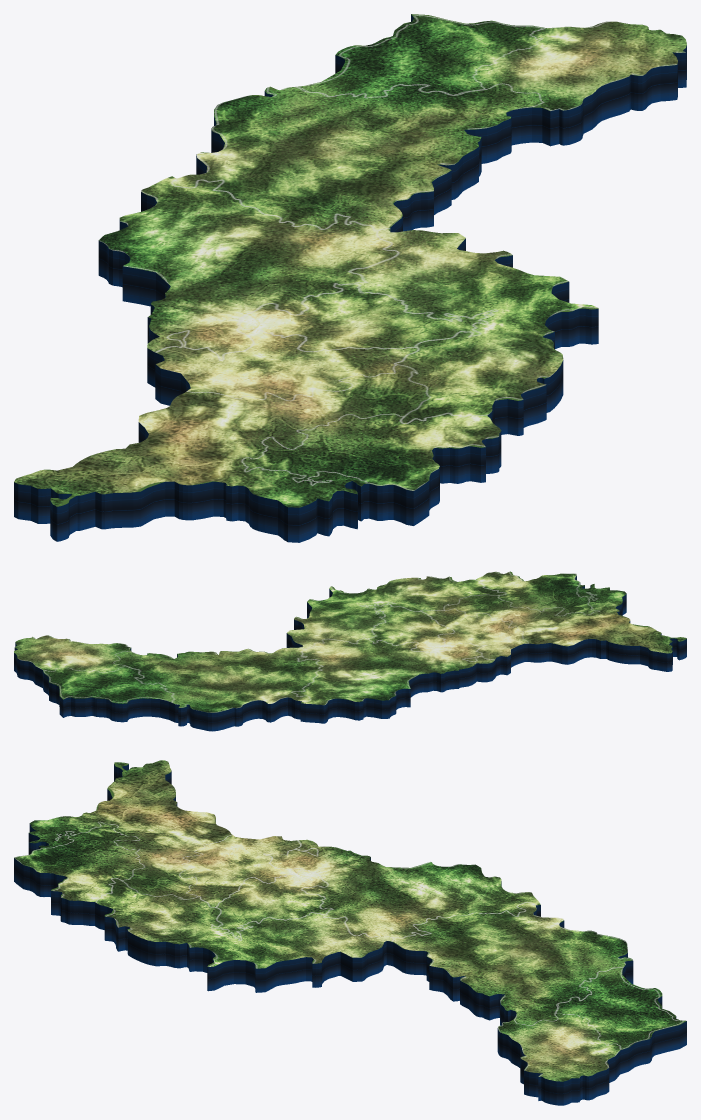
The model's file is quannan.gltf.
3 views of the same model, one above another, from view 1: azimuth 30°, elevation 25°; view 2: azimuth 150°, elevation 25°; view 3: azimuth 270°, elevation 25° (orthographic). The views are drawn at different scales.
Visible parts, largest first — view 1: Shape1; view 2: Shape1; view 3: Shape1.
Boxes of the visible parts, box(x1,y1,x2,y2) form: Shape1: box(14, 14, 686, 542); Shape1: box(14, 571, 686, 731); Shape1: box(14, 760, 686, 1105).
Size of the model in its own units: 131 by 4.56 by 115.
Materials: 2 (2 with a texture image).
